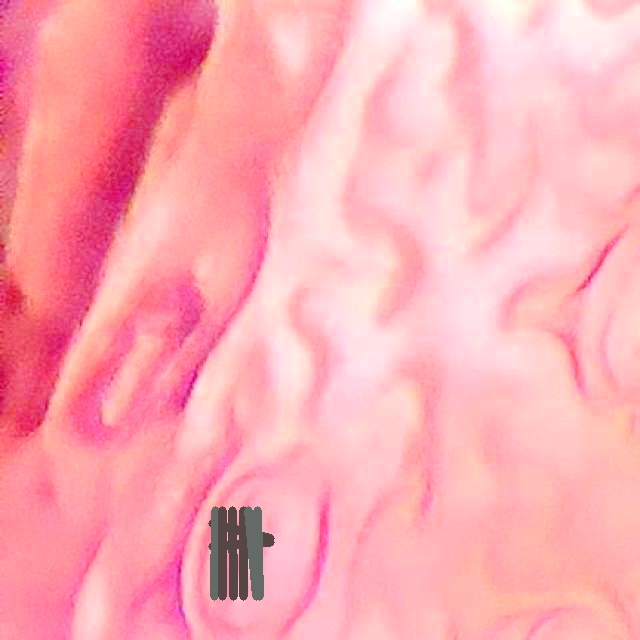open: (209, 506, 274, 600)
